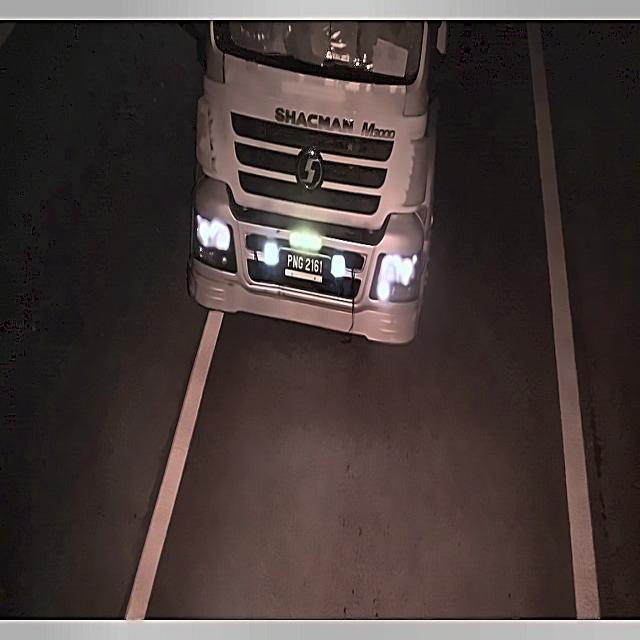car: (279, 239, 329, 291)
